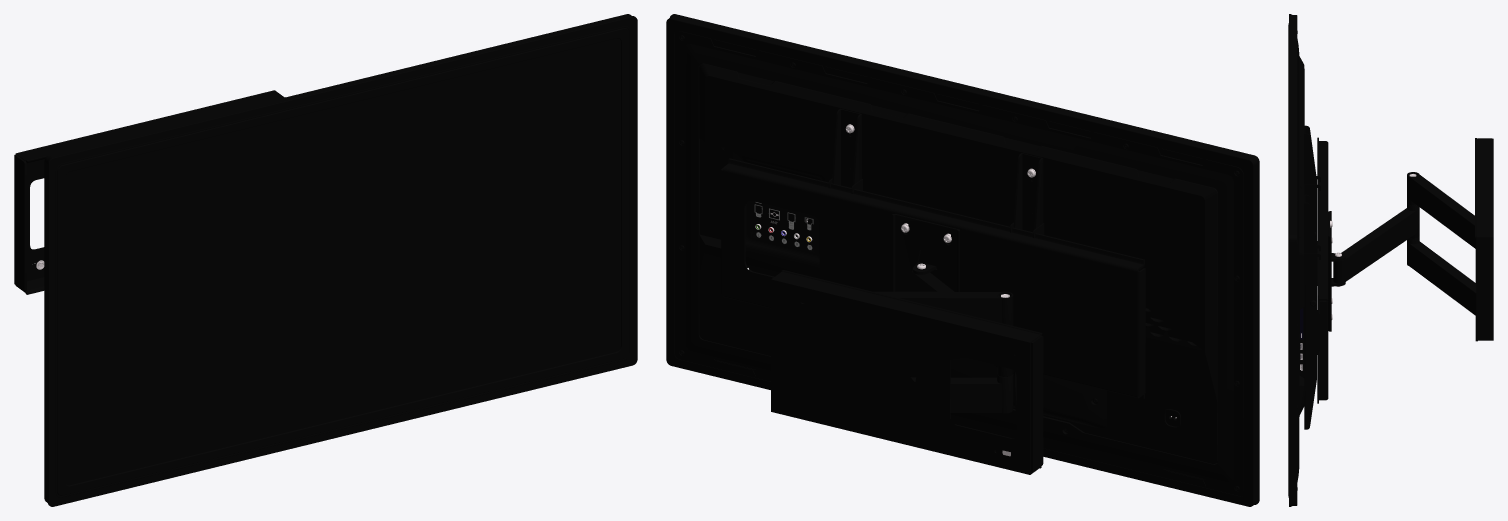
3 views of the same model, side by side, from view 1: azimuth 30°, elevation 25°; view 2: azimuth 150°, elevation 25°; view 3: azimuth 270°, elevation 25° (orthographic). The views are drawn at different scales.
Visible parts, largest first — view 1: TV; view 2: TV; view 3: TV.
Part boxes in pixels (box(x1,y1,x2,y2)): TV: box(14, 14, 637, 506); TV: box(666, 14, 1259, 506); TV: box(1288, 14, 1493, 506).
Bounding box in the file's own units: 2.42 × 0.9374 × 1.37.
